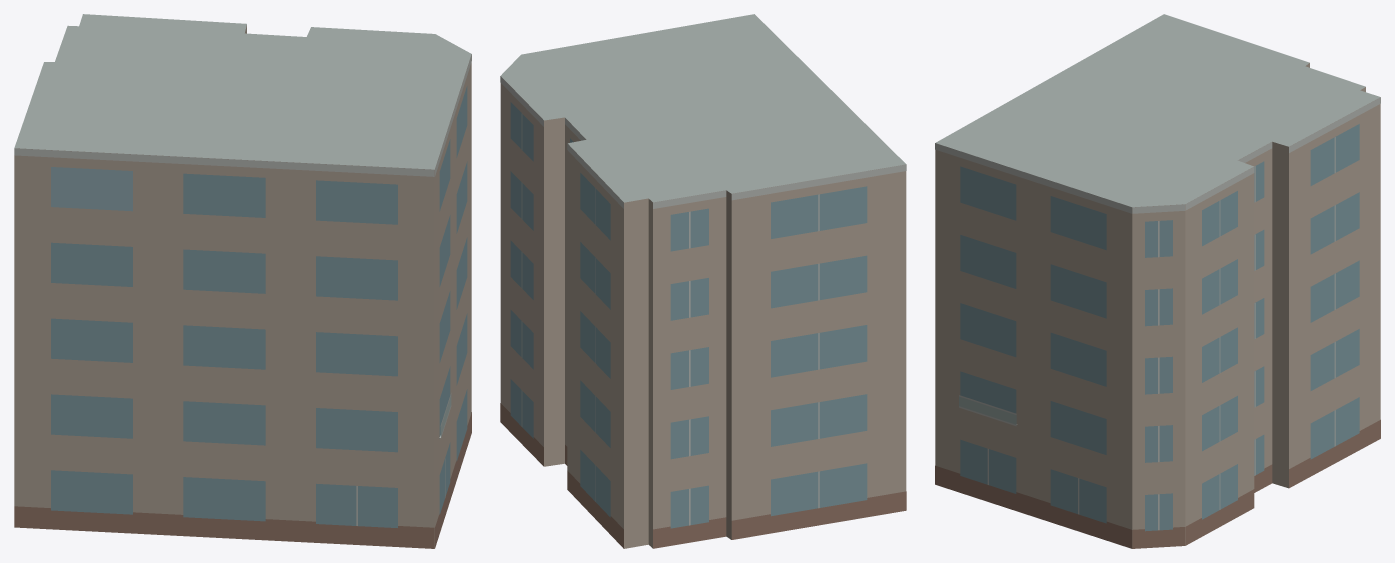
The model's file is survey-upis-32725967.glb.
The picture shows the model from 3 angles, left to right: view 1: azimuth 30°, elevation 25°; view 2: azimuth 150°, elevation 25°; view 3: azimuth 270°, elevation 25°; orthographic projection. The views are drawn at different scales.
Parts seen in each view (by area): view 1: survey-upis-32725967.tmp; view 2: survey-upis-32725967.tmp; view 3: survey-upis-32725967.tmp.
Boxes of the visible parts, bbox=[...] form: survey-upis-32725967.tmp: bbox=[14, 14, 471, 548]; survey-upis-32725967.tmp: bbox=[500, 14, 906, 548]; survey-upis-32725967.tmp: bbox=[935, 14, 1380, 548].
Bounding box in the file's own units: 15.42 × 12.7 × 15.03.
